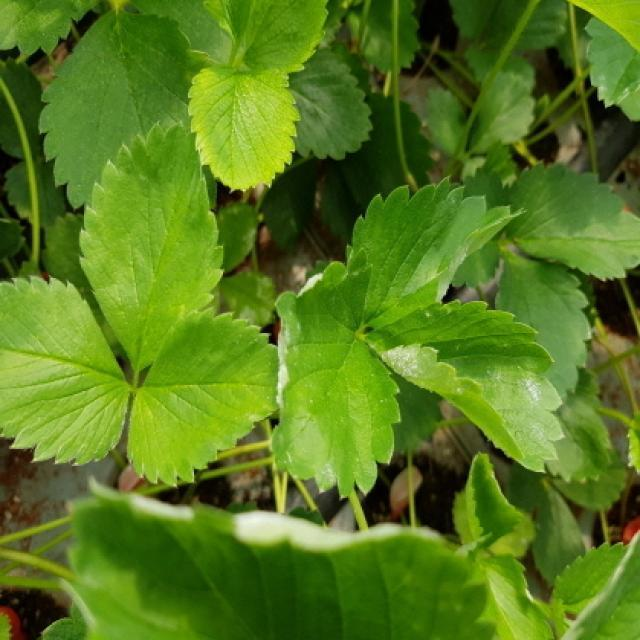powdery_mildew_leaf: (359, 297, 565, 475), (266, 245, 403, 500), (345, 174, 526, 332)
